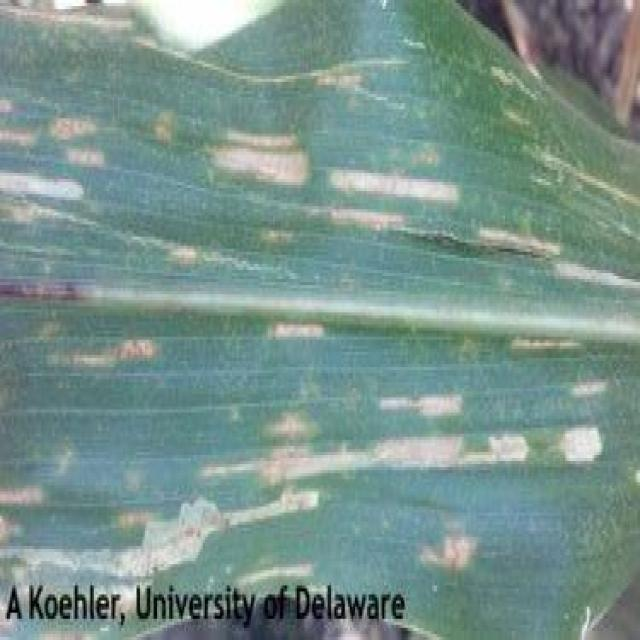blight: (237, 373, 600, 508), (196, 112, 474, 268)
